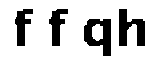f: (44, 6, 72, 52), (11, 4, 34, 54)
h: (111, 3, 147, 49)
q: (80, 18, 115, 60)
